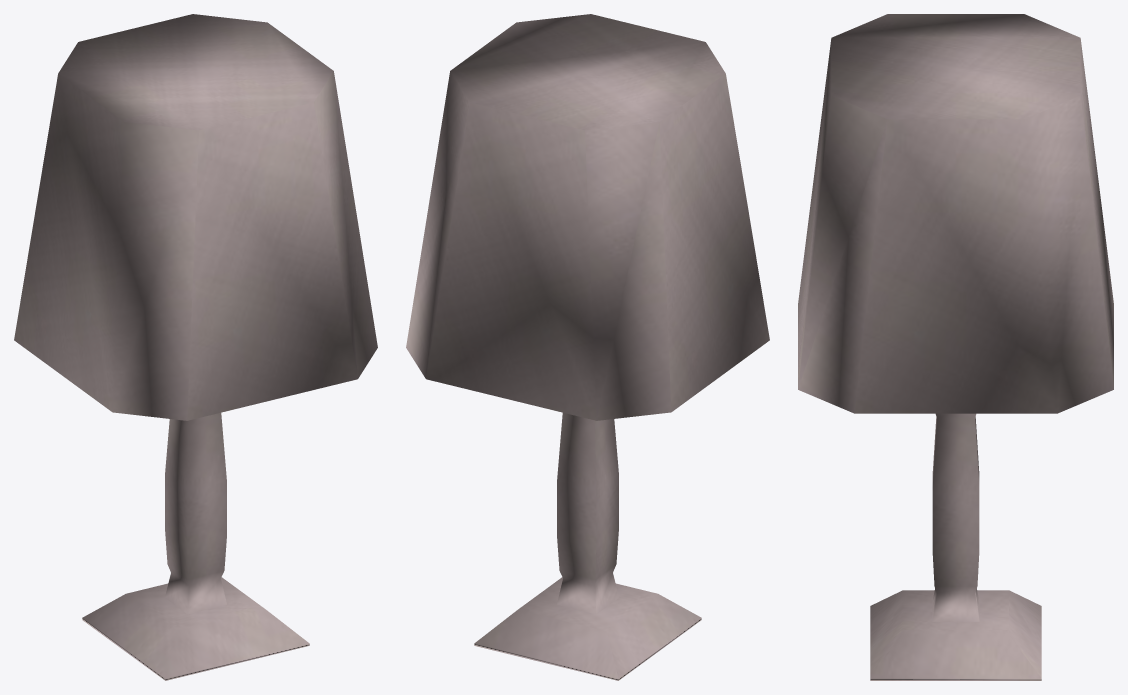
The model's file is lamp.glb.
3 views of the same model, side by side, from view 1: azimuth 30°, elevation 25°; view 2: azimuth 150°, elevation 25°; view 3: azimuth 270°, elevation 25° (orthographic). The views are drawn at different scales.
Visible parts, largest first — view 1: lamp; view 2: lamp; view 3: lamp.
Boxes of the visible parts, left/top/right/bottom form: lamp: left=14, top=14, right=377, bottom=680; lamp: left=406, top=14, right=769, bottom=680; lamp: left=798, top=14, right=1113, bottom=680.
Size of the model in its own units: 0.2377 by 0.48 by 0.2377.
Materials: 1 (1 with a texture image).
